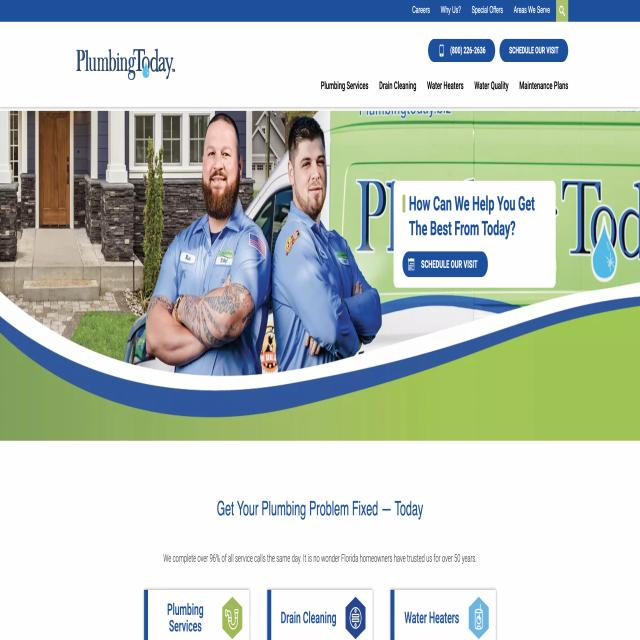Logo: (70, 30, 177, 94)
Navigation: (317, 66, 589, 107)
